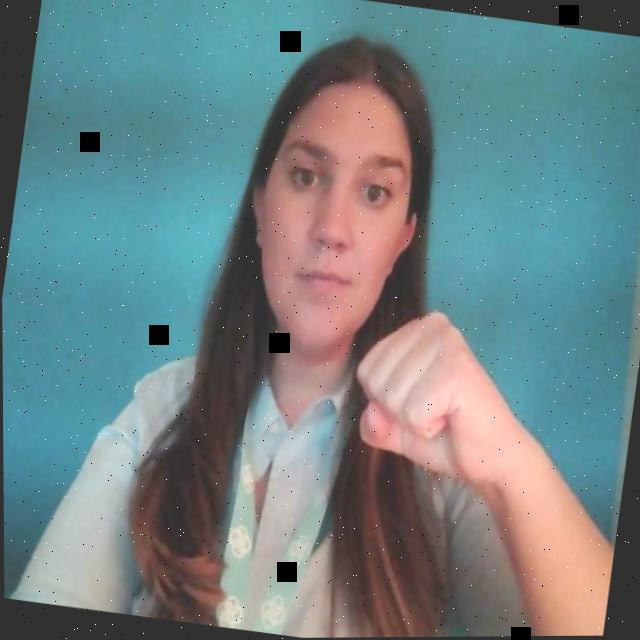Rock: (334, 290, 518, 485)
